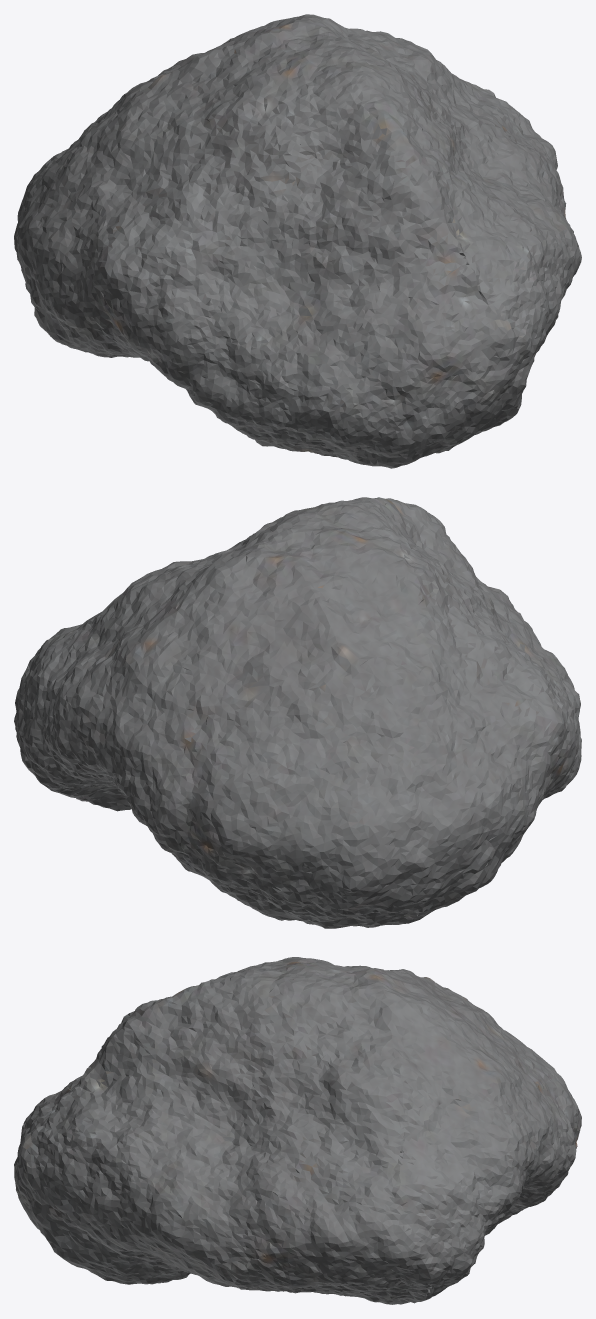
Rendered from rock_round.dae.
3 renders of one model, top to bottom at view 1: azimuth 30°, elevation 25°; view 2: azimuth 150°, elevation 25°; view 3: azimuth 270°, elevation 25°, orthographic. The views are drawn at different scales.
Visible parts, largest first — view 1: rock_round; view 2: rock_round; view 3: rock_round.
Part boxes in pixels (box(x1,y1,x2,y2)): rock_round: box(14, 14, 581, 468); rock_round: box(14, 497, 581, 928); rock_round: box(14, 957, 581, 1304).
Bounding box in the file's own units: 0.2978 × 0.3282 × 0.1936.
Materials: 1 (1 with a texture image).
